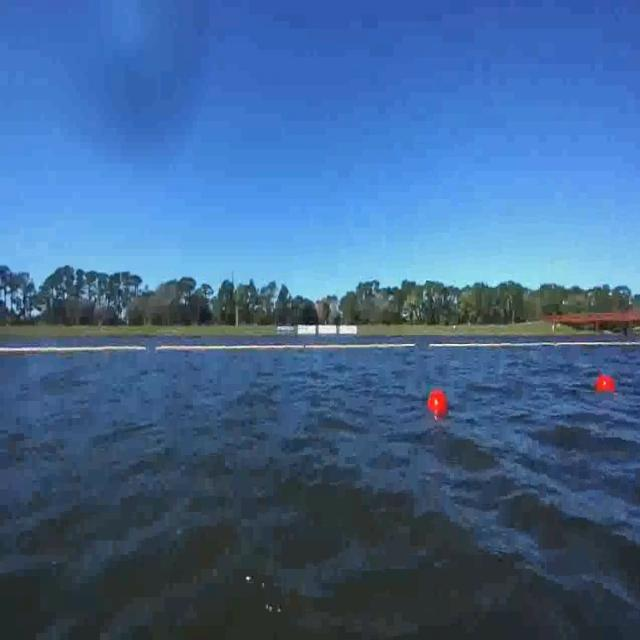red-buoy: (428, 392, 447, 421), (594, 374, 612, 392)
